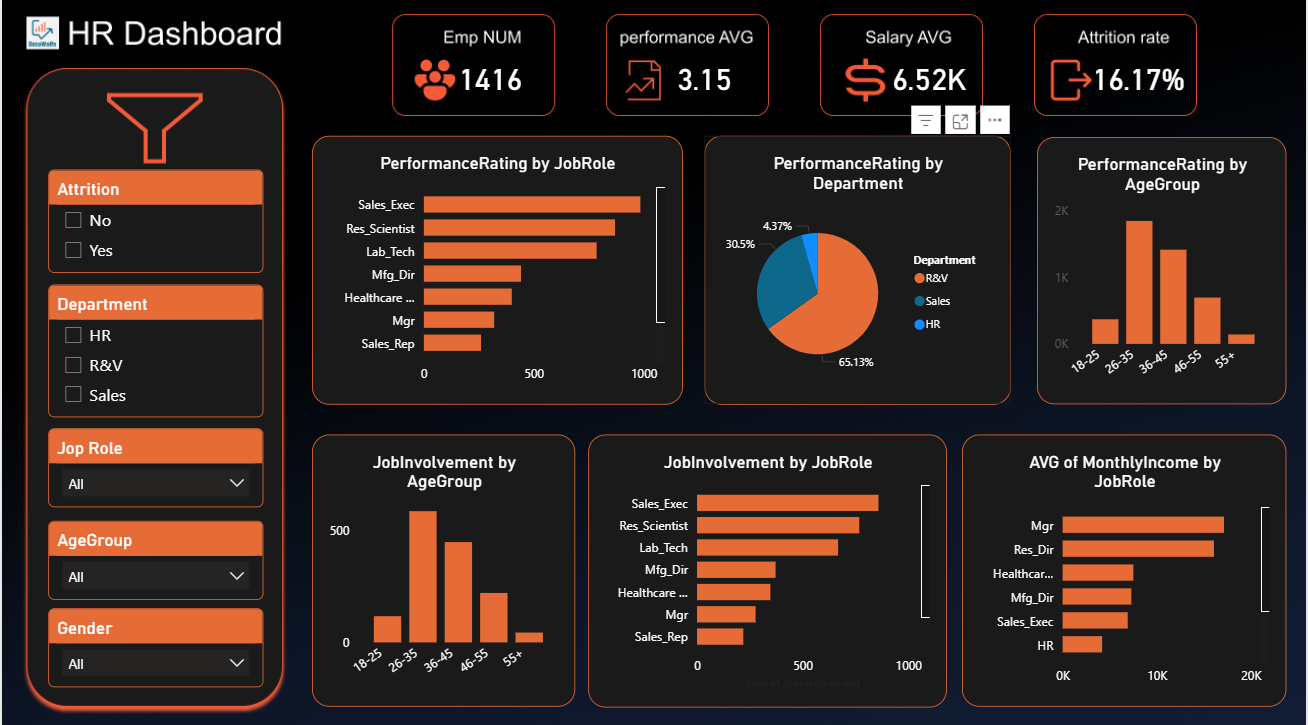

This screenshot's page, from the dashboard's own definition file:
{"tool":"powerbi","page":{"name":"Performance","canvas":[1280,720],"ordinal":0},"visuals":[{"type":"card","title":"performance AVG","fields":{"Values":["Avg(HR_Analytics.PerformanceRating)"]},"box":[647.5,46.2,83.8,65],"z":0},{"type":"card","title":"Emp NUM","fields":{"Values":["CountNonNull(HR_Analytics.EmpID)"]},"box":[433.8,46.2,90,65],"z":1000},{"type":"card","title":"Salary AVG","fields":{"Values":["Avg(HR_Analytics.MonthlyIncome)"]},"box":[858.8,46.2,102.5,65],"z":2000},{"type":"card","title":"Attrition rate","fields":{"Values":["HR_Analytics.AttritionPercentage"]},"box":[1045,46.2,140,65],"z":3000},{"type":"barChart","title":"PerformanceRating by JobRole","fields":{"Category":["HR_Analytics.JobRole"],"Y":["Sum(HR_Analytics.PerformanceRating)"]},"box":[303.8,136.2,363.8,263.8],"z":4000},{"type":"barChart","title":"AVG of MonthlyIncome by JobRole","fields":{"Category":["HR_Analytics.JobRole"],"Y":["Avg(HR_Analytics.MonthlyIncome)"]},"box":[942.5,430,318.8,267.5],"z":5000},{"type":"slicer","title":"Attrition","fields":{"Values":["HR_Analytics.Attrition"]},"box":[45,169.7,211.2,101.2],"z":6000},{"type":"slicer","title":"Department","fields":{"Values":["HR_Analytics.Department"]},"box":[45,282.5,211.2,130],"z":7000},{"type":"slicer","title":"Jop Role","fields":{"Values":["HR_Analytics.JobRole"]},"box":[45,423.8,211.2,77.5],"z":8000},{"type":"slicer","title":"AgeGroup","fields":{"Values":["HR_Analytics.AgeGroup"]},"box":[45,513.8,211.2,77.5],"z":9000},{"type":"pieChart","title":"PerformanceRating by Department","fields":{"Category":["HR_Analytics.Department"],"Y":["Sum(HR_Analytics.PerformanceRating)"]},"box":[690.1,136.3,300.4,264.2],"z":10000},{"type":"columnChart","title":"PerformanceRating by AgeGroup","fields":{"Category":["HR_Analytics.AgeGroup"],"Y":["Sum(HR_Analytics.PerformanceRating)"]},"box":[1016.2,137.5,245,262.5],"z":11000},{"type":"slicer","title":"Gender","fields":{"Values":["HR_Analytics.Gender"]},"box":[45,600,211.2,77.5],"z":12000},{"type":"columnChart","title":"JobInvolvement by AgeGroup","fields":{"Category":["HR_Analytics.AgeGroup"],"Y":["CountNonNull(HR_Analytics.JobInvolvement)"]},"box":[303.8,430,258.8,267.5],"z":13000},{"type":"barChart","title":"JobInvolvement by JobRole","fields":{"Category":["HR_Analytics.JobRole"],"Y":["Sum(HR_Analytics.JobInvolvement)"]},"box":[575.5,429.5,352.3,267.8],"z":14000}]}

Visuals, with their boxes in screenshot pixels (x1, y1, x2, y2), scaled from the page's 1280x720 canvas onto the 1308x725 screenshot:
"performance AVG" card: (662,47,747,112)
"Emp NUM" card: (443,47,535,112)
"Salary AVG" card: (878,47,982,112)
"Attrition rate" card: (1068,47,1211,112)
"PerformanceRating by JobRole" barChart: (310,137,682,403)
"AVG of MonthlyIncome by JobRole" barChart: (963,433,1289,702)
"Attrition" slicer: (46,171,262,273)
"Department" slicer: (46,284,262,415)
"Jop Role" slicer: (46,427,262,505)
"AgeGroup" slicer: (46,517,262,595)
"PerformanceRating by Department" pieChart: (705,137,1012,403)
"PerformanceRating by AgeGroup" columnChart: (1038,138,1289,403)
"Gender" slicer: (46,604,262,682)
"JobInvolvement by AgeGroup" columnChart: (310,433,575,702)
"JobInvolvement by JobRole" barChart: (588,432,948,702)
